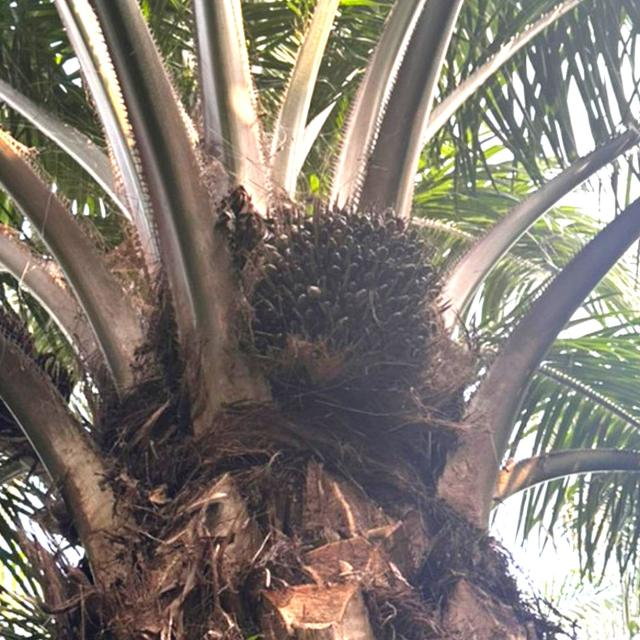almost: (232, 186, 466, 400)
